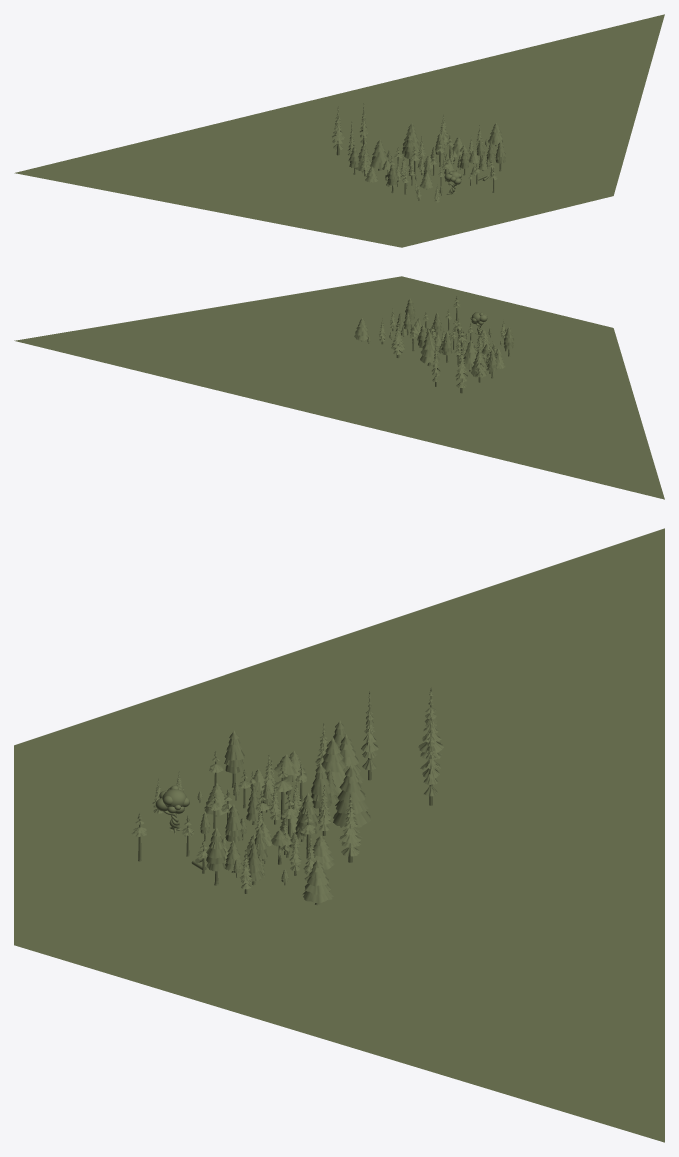
Rendered from Szene1_Blockout4.fbx.
3 views of the same model, one above another, from view 1: azimuth 30°, elevation 25°; view 2: azimuth 150°, elevation 25°; view 3: azimuth 270°, elevation 25° (orthographic). The views are drawn at different scales.
Visible parts, largest first — view 1: Plane.001; view 2: Plane.001, Tannenbaum normal.015; view 3: Plane.001, Tannenbaum normal.015.
Part boxes in pixels (left/top/right/bottom): Plane.001: left=14, top=14, right=664, bottom=247; Plane.001: left=14, top=276, right=664, bottom=499; Tannenbaum normal.015: left=420, top=330, right=439, bottom=366; Plane.001: left=14, top=528, right=664, bottom=1142; Tannenbaum normal.015: left=333, top=763, right=370, bottom=828.
Bounding box in the file's own units: 7149 × 561 × 3201.
